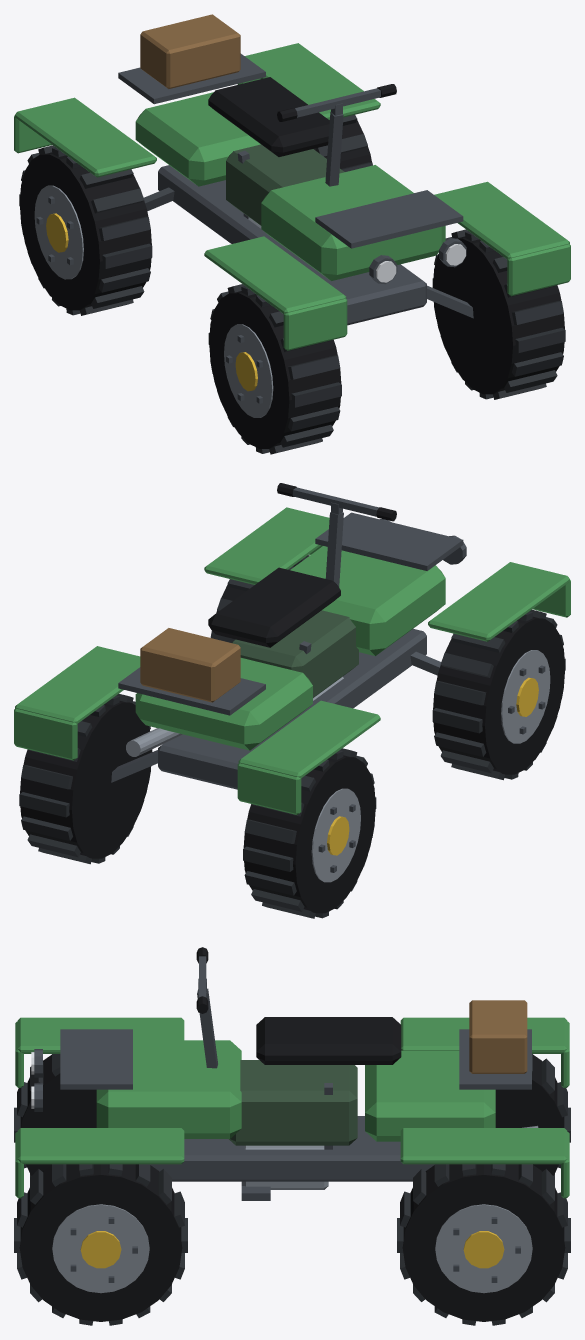
File: quad.glb
3 renders of one model, top to bottom at view 1: azimuth 30°, elevation 25°; view 2: azimuth 150°, elevation 25°; view 3: azimuth 270°, elevation 25°, orthographic.
Parts seen in each view (by area): view 1: pieces_vert.002, pieces_acier_sombre.006, roue_avd_noir.004, roue_arg_noir.004, roue_avg_noir.004, pieces_noir.004, pieces_bois.006, roue_arg_fonte.004, pieces_vert_fonce.002, roue_avg_fonte.004, roue_avd_fonte.004, roue_arg_acier.004 (+6 smaller); view 2: pieces_vert.002, pieces_acier_sombre.006, roue_ard_noir.004, roue_avg_noir.004, roue_arg_noir.004, pieces_noir.004, pieces_bois.006, pieces_vert_fonce.002, roue_avg_fonte.004, roue_arg_fonte.004, roue_ard_fonte.004, roue_arg_acier.004 (+4 smaller); view 3: pieces_vert.002, pieces_acier_sombre.006, roue_ard_noir.004, roue_avd_noir.004, pieces_vert_fonce.002, pieces_noir.004, roue_ard_acier.004, roue_avd_acier.004, pieces_bois.006, roue_ard_fonte.004, roue_avd_fonte.004, roue_avg_noir.004 (+6 smaller).
Boxes of the visible parts, box(x1,y1,x2,y2) form: pieces_vert.002: box(14, 43, 570, 350); pieces_acier_sombre.006: box(118, 53, 473, 325); roue_avd_noir.004: box(432, 236, 564, 394); roue_arg_noir.004: box(19, 152, 151, 310); roue_avg_noir.004: box(209, 291, 341, 448); pieces_noir.004: box(208, 77, 396, 156); pieces_bois.006: box(140, 14, 240, 88); roue_arg_fonte.004: box(19, 145, 152, 315); pieces_vert_fonce.002: box(226, 144, 344, 225); roue_avg_fonte.004: box(208, 284, 341, 454); roue_avd_fonte.004: box(432, 229, 565, 399); roue_arg_acier.004: box(34, 185, 83, 279); pieces_vert.002: box(14, 507, 570, 814); pieces_acier_sombre.006: box(111, 487, 466, 789); roue_ard_noir.004: box(20, 701, 152, 858); roue_avg_noir.004: box(433, 616, 565, 774); roue_arg_noir.004: box(243, 755, 375, 913); pieces_noir.004: box(208, 483, 396, 647); pieces_bois.006: box(140, 628, 240, 702); pieces_vert_fonce.002: box(232, 610, 358, 697); roue_avg_fonte.004: box(432, 609, 565, 780); roue_arg_fonte.004: box(243, 748, 376, 918); roue_ard_fonte.004: box(19, 694, 152, 864); roue_arg_acier.004: box(311, 788, 360, 882); pieces_vert.002: box(15, 1017, 569, 1198); pieces_acier_sombre.006: box(34, 956, 531, 1200); roue_ard_noir.004: box(402, 1164, 565, 1321); roue_avd_noir.004: box(19, 1164, 182, 1321); pieces_vert_fonce.002: box(229, 1060, 357, 1145); pieces_noir.004: box(196, 947, 401, 1064); roue_ard_acier.004: box(435, 1204, 532, 1293); roue_avd_acier.004: box(52, 1204, 149, 1293); pieces_bois.006: box(469, 1000, 527, 1073); roue_ard_fonte.004: box(397, 1164, 570, 1325); roue_avd_fonte.004: box(14, 1164, 187, 1325); roue_avg_noir.004: box(20, 1054, 96, 1175).
Bounding box in the file's own units: 1.15 × 1.08 × 1.92.
